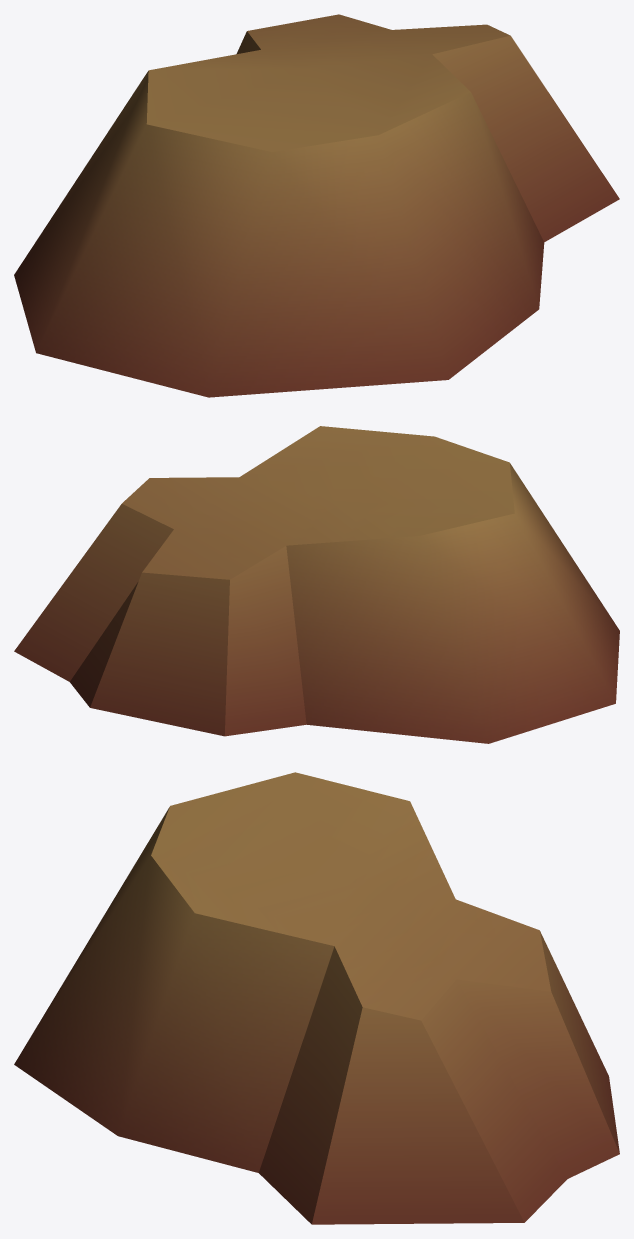
Rendered from Mountain_small.010.fbx.
3 views of the same model, one above another, from view 1: azimuth 30°, elevation 25°; view 2: azimuth 150°, elevation 25°; view 3: azimuth 270°, elevation 25° (orthographic). The views are drawn at different scales.
Visible parts, largest first — view 1: Mountain_small.010; view 2: Mountain_small.010; view 3: Mountain_small.010.
Part boxes in pixels (x1,y1,x2,y2): Mountain_small.010: (14, 14, 619, 397); Mountain_small.010: (14, 426, 619, 743); Mountain_small.010: (14, 772, 619, 1224).
Size of the model in its own units: 31.86 by 10.11 by 26.84.
